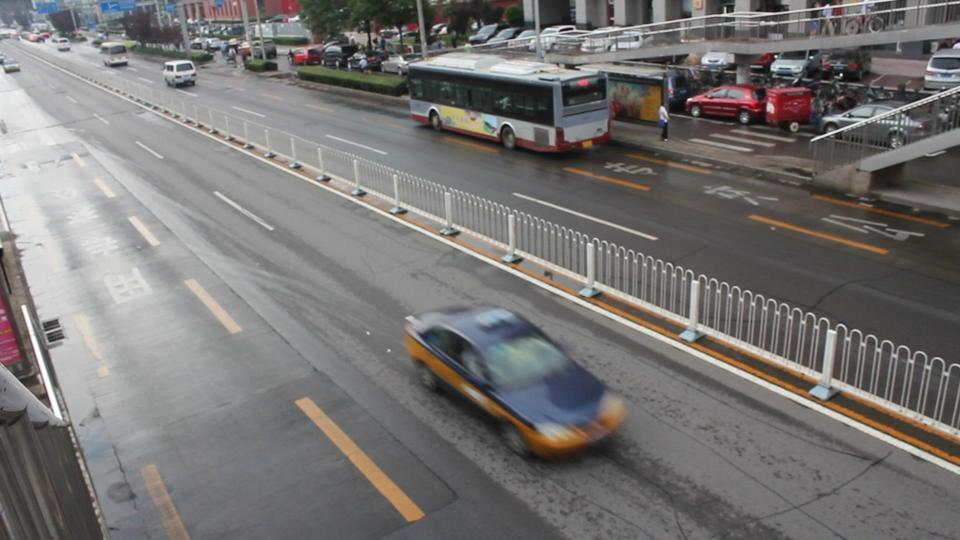bus: (405, 52, 614, 155)
car: (401, 303, 629, 462), (816, 100, 937, 148), (685, 83, 787, 125), (813, 104, 901, 132), (924, 46, 960, 89), (162, 60, 198, 88), (98, 42, 129, 66), (289, 46, 326, 65), (0, 56, 21, 73), (25, 31, 50, 43), (54, 41, 71, 52)
person: (0, 362, 61, 429), (658, 104, 670, 141)
